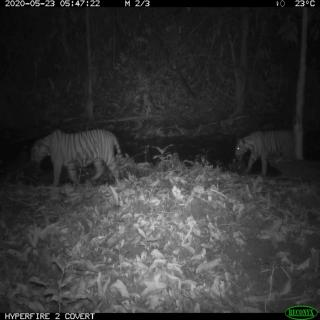Tiger: (27, 120, 129, 194), (234, 124, 299, 174)
